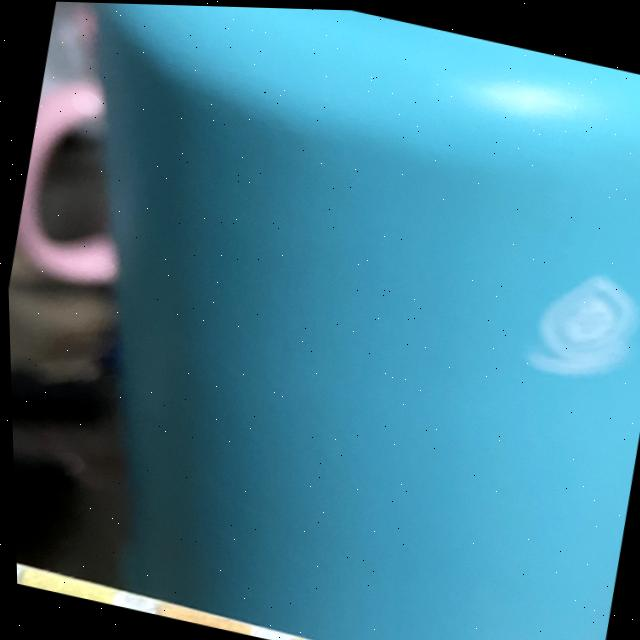Protein: (16, 570, 112, 605)
pH: (154, 605, 247, 634)
